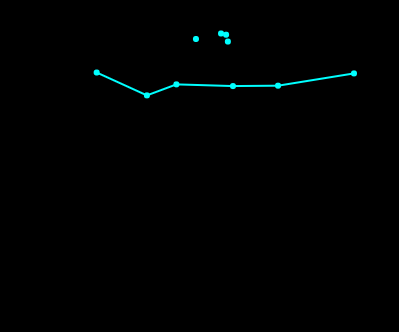warrior_2: (84, 24, 363, 122)
